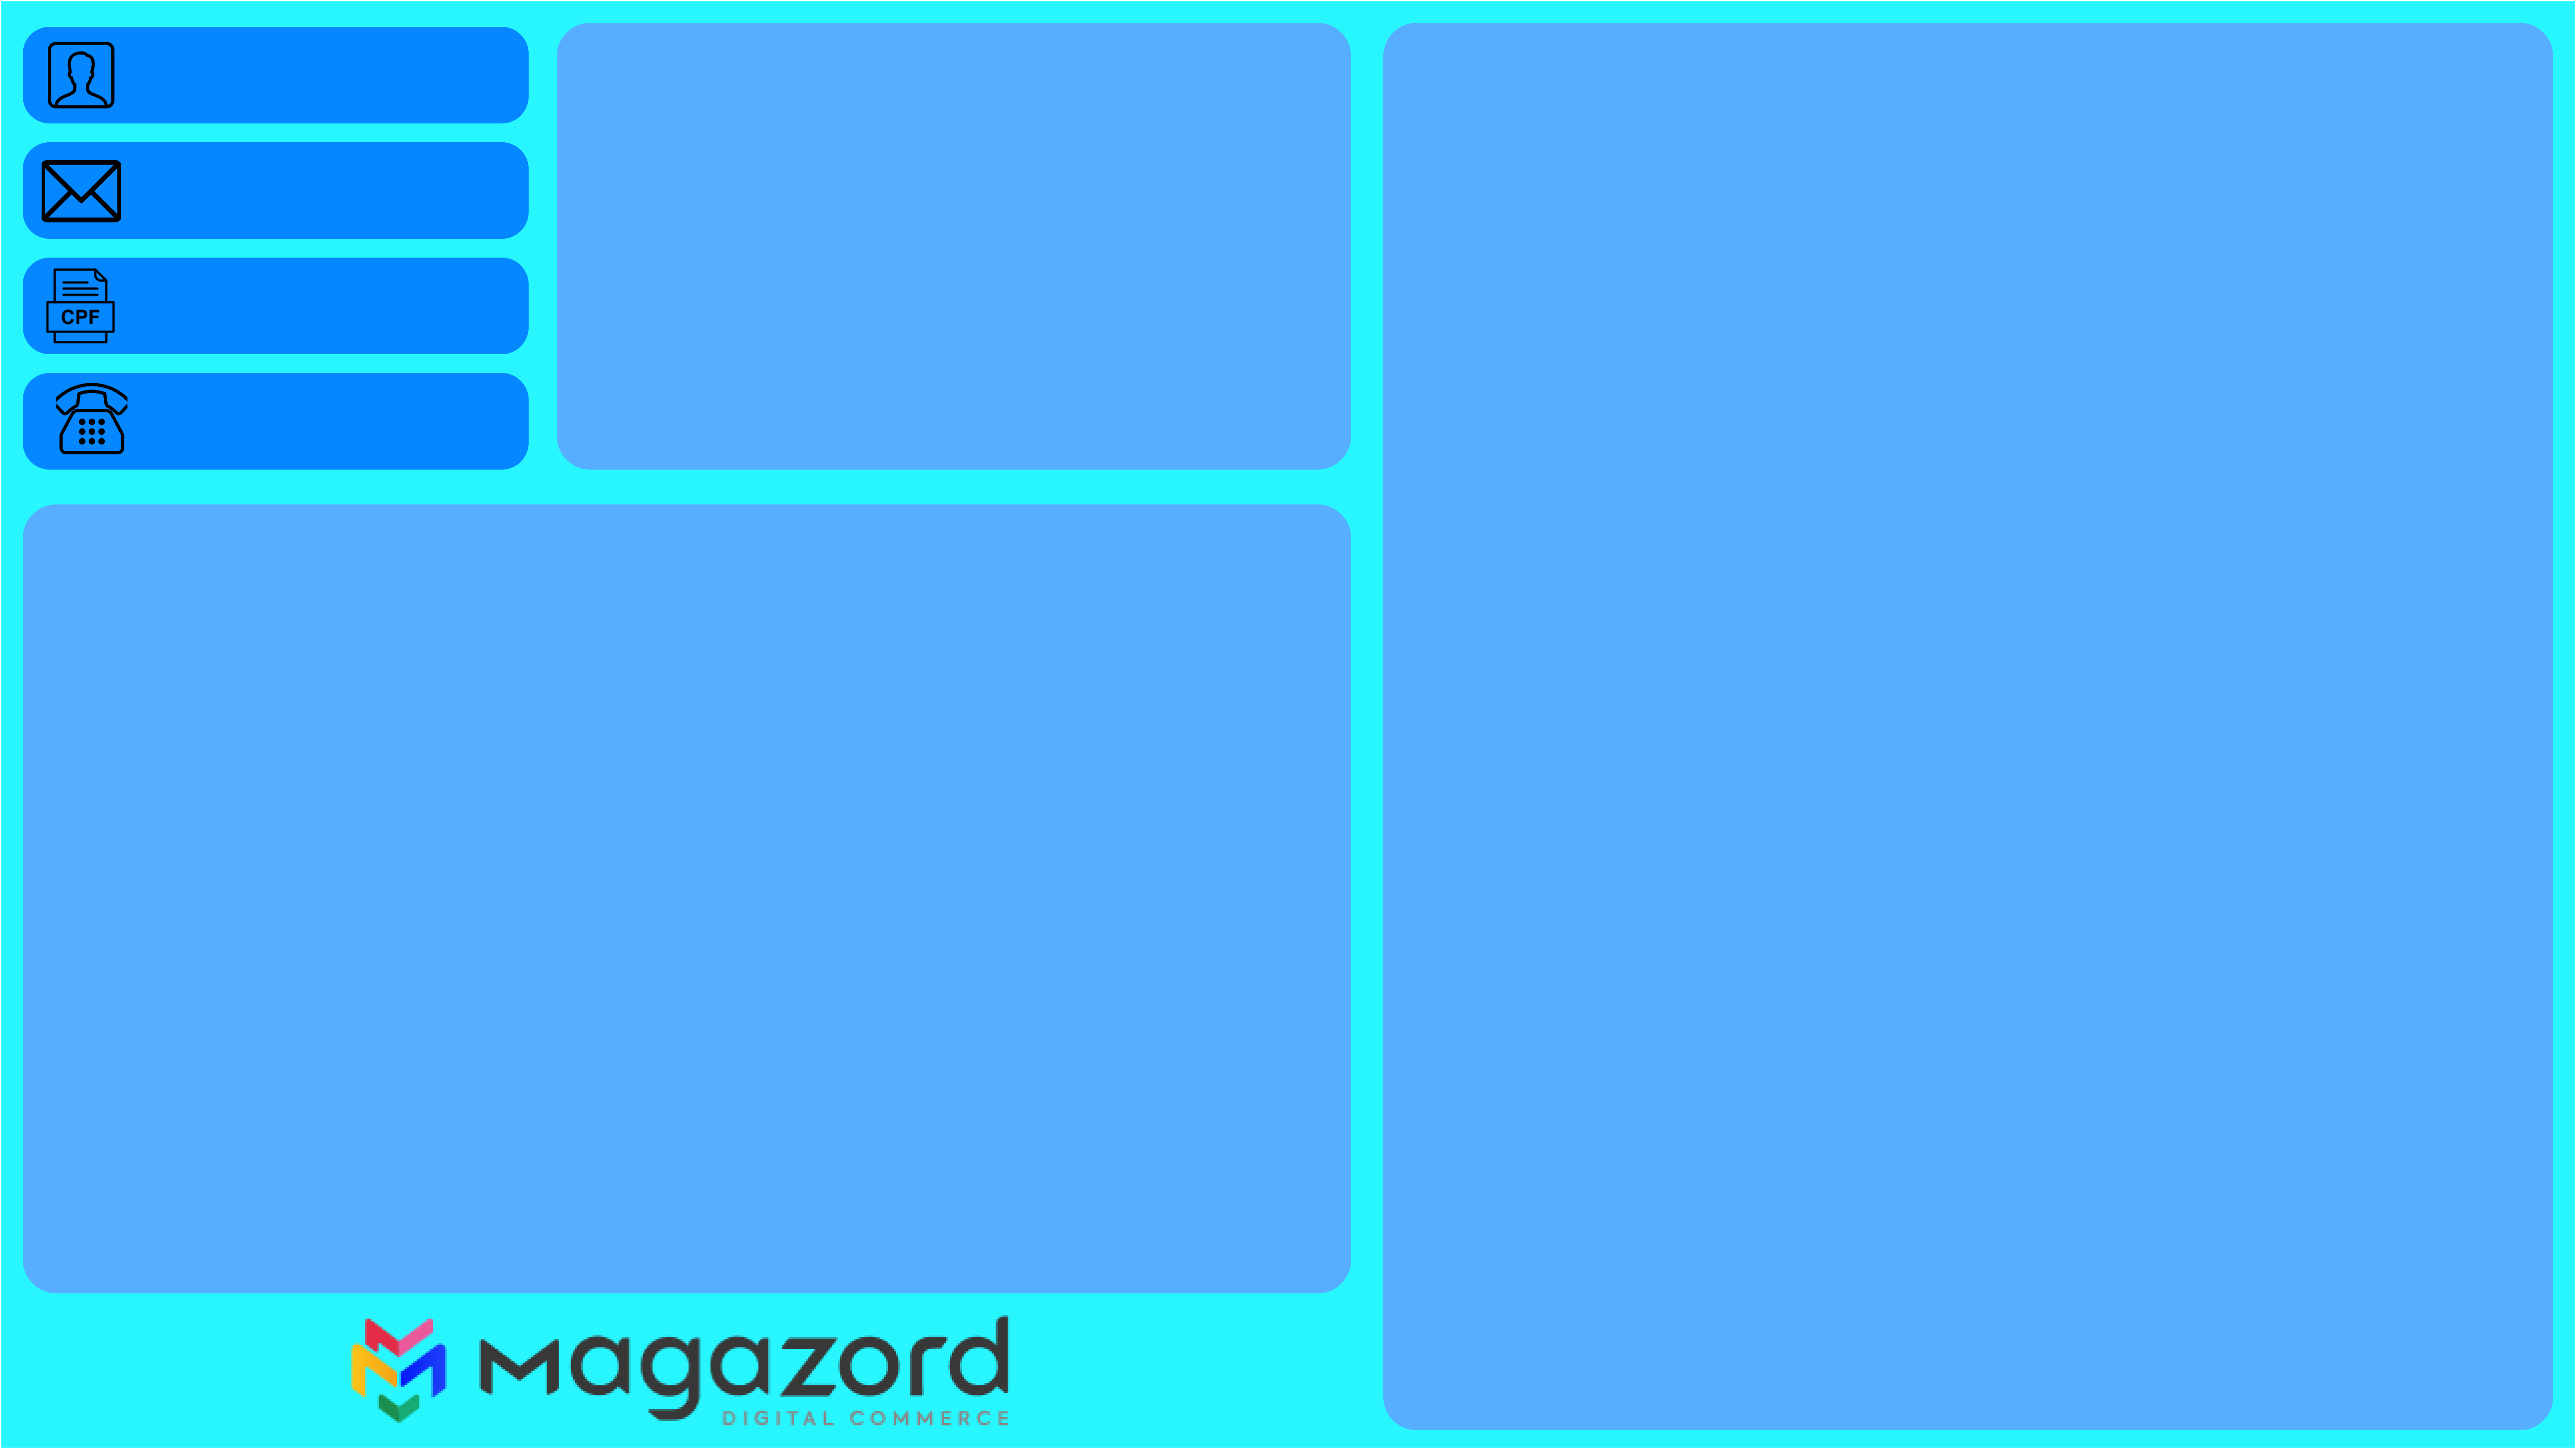

Layout of this report page (visuals, bound fields, positions):
{"tool":"powerbi","page":{"name":"Página 1","canvas":[1280,720],"ordinal":0},"visuals":[{"type":"card","fields":{"Values":["Banco de dados.Nome Completo"]},"box":[60.5,11.8,204.9,53.8],"z":0},{"type":"card","fields":{"Values":["Banco de dados.E-mail"]},"box":[60.5,65.5,204.9,53.8],"z":1},{"type":"card","fields":{"Values":["Banco de dados.CPF"]},"box":[60.5,132.7,193.2,40.3],"z":2},{"type":"card","fields":{"Values":["Banco de dados.Telefone"]},"box":[65.5,189.8,193.2,40.3],"z":3},{"type":"tableEx","fields":{"Values":["Banco de dados.Nome Completo","Banco de dados.Telefone","Banco de dados.E-mail","Banco de dados.CPF"]},"box":[18.5,262,650.1,371.2],"z":4},{"type":"card","title":"Currículo","fields":{"Values":["Banco de dados.Currículo"]},"box":[697.1,21.8,562.7,677],"z":5},{"type":"areaChart","title":"Cadastros por tempo","fields":{"Y":["Banco de dados.Total de Contagem de Nome Completo para Nome Completo"],"Category":["Banco de dados.data"]},"box":[287.2,21.8,369.6,208.3],"z":6}]}

Visuals, with their boxes in screenshot pixels (x1, y1, x2, y2), scaled from the page's 1280x720 canvas onto the 2576x1449 screenshot:
card - Banco de dados.Nome Completo: box=[122, 24, 534, 132]
card - Banco de dados.E-mail: box=[122, 132, 534, 240]
card - Banco de dados.CPF: box=[122, 267, 511, 348]
card - Banco de dados.Telefone: box=[132, 382, 521, 463]
tableEx - Banco de dados.Nome Completo x Banco de dados.Telefone: box=[37, 527, 1346, 1274]
"Currículo" card: box=[1403, 44, 2535, 1407]
"Cadastros por tempo" areaChart: box=[578, 44, 1322, 463]
